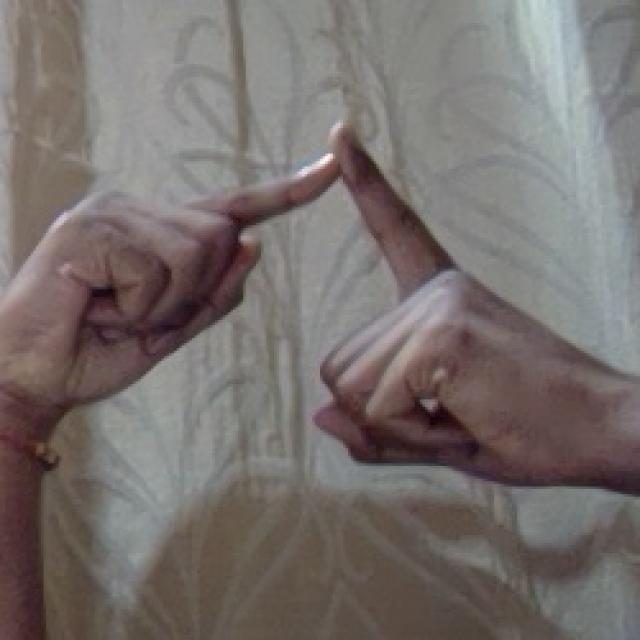Alphabet-E: (54, 113, 594, 522)
